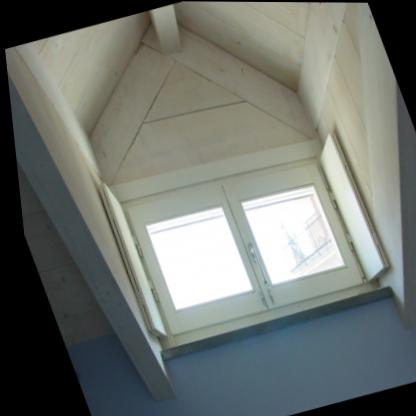Window: (111, 144, 370, 342)
